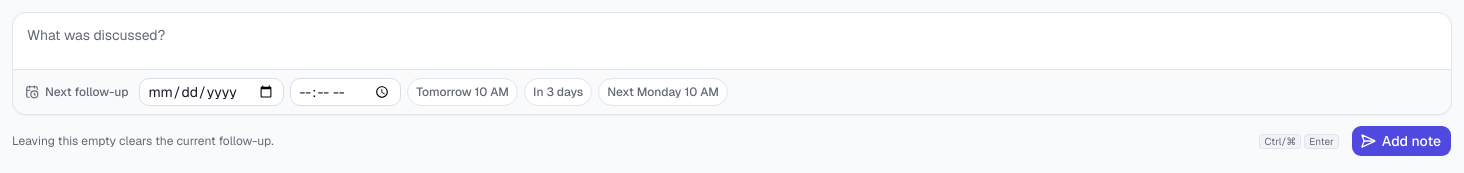
Test: AddDiscussionForm quick picks › marks the picked option as pressed and clears it
The width and height of the screenshot is (1464, 173).
Click the button "Tomorrow 10 AM" at (463, 92), box [407,78,518,106]
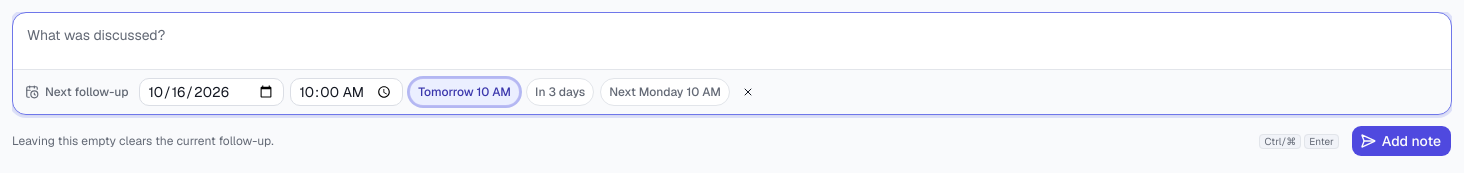
Check: the button "Tomorrow 10 AM" is pressed, box [409,78,520,106]
Click the button named "Clear follow-up" at (748, 92), box [736,80,760,104]
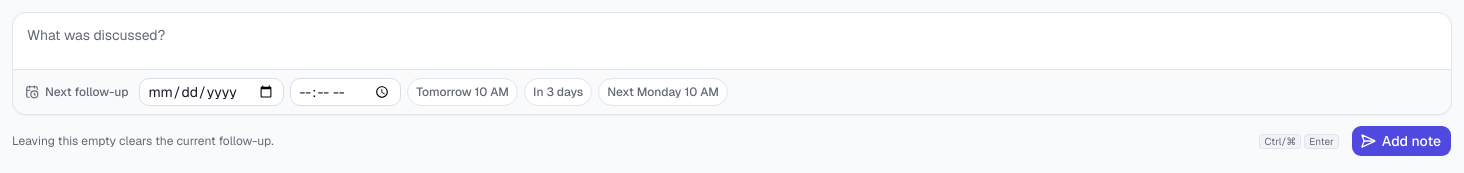
Check: the date field labelled "Next follow-up" is empty, box [138,78,284,106]
